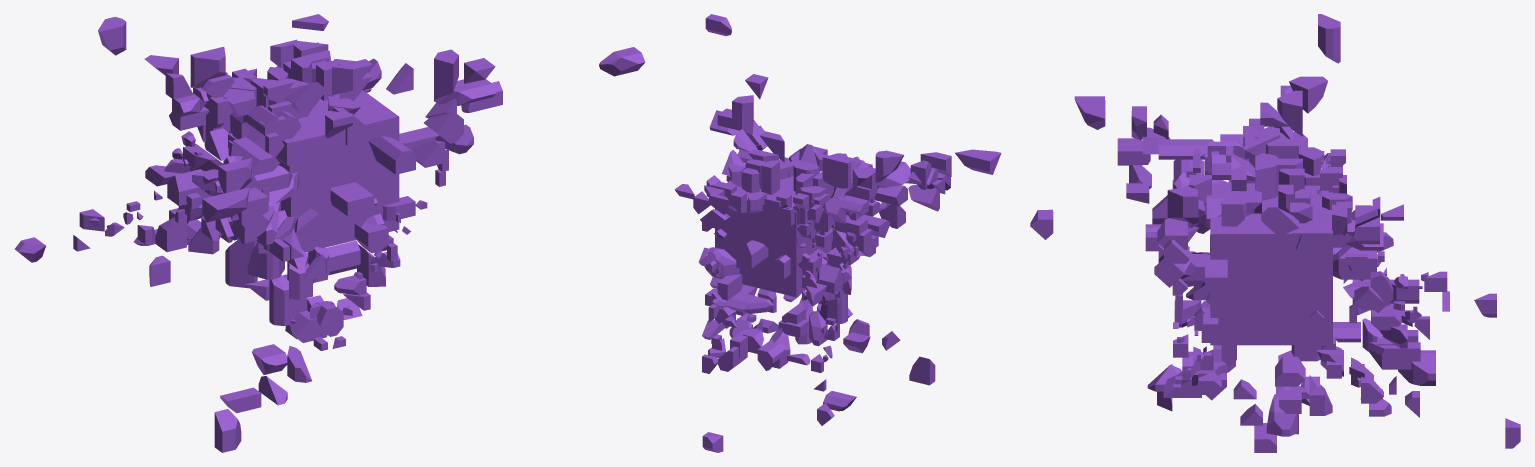
3 views of the same model, side by side, from view 1: azimuth 30°, elevation 25°; view 2: azimuth 150°, elevation 25°; view 3: azimuth 270°, elevation 25° (orthographic). The views are drawn at different scales.
Visible parts, largest first — view 1: Cube, Cube_cell_191, Cube_cell_043, Cube_cell_148, Cube_cell_027, Cube_cell_079, Cube_cell_182, Cube_cell_035, Cube_cell_071, Cube_cell_016, Cube_cell_030, Cube_cell_193 (+25 smaller); view 2: Cube, Cube_cell_079, Cube_cell_182, Cube_cell_188, Cube_cell_035, Cube_cell_175, Cube_cell_066, Cube_cell_195, Cube_cell_065, Cube_cell_016, Cube_cell_043, Cube_cell_136 (+32 smaller); view 3: Cube, Cube_cell_063, Cube_cell_035, Cube_cell_018, Cube_cell_175, Cube_cell_030, Cube_cell_195, Cube_cell_017, Cube_cell_077, Cube_cell_079, Cube_cell_131, Cube_cell_106 (+30 smaller).
Boxes of the visible parts, left/top/right/bottom form: Cube: left=275, top=90, right=399, bottom=247; Cube_cell_191: left=330, top=182, right=374, bottom=226; Cube_cell_043: left=269, top=275, right=307, bottom=325; Cube_cell_148: left=368, top=136, right=415, bottom=174; Cube_cell_027: left=225, top=238, right=257, bottom=288; Cube_cell_079: left=190, top=46, right=225, bottom=88; Cube_cell_182: left=202, top=187, right=249, bottom=222; Cube_cell_035: left=434, top=49, right=458, bottom=101; Cube_cell_071: left=294, top=208, right=332, bottom=252; Cube_cell_016: left=214, top=409, right=241, bottom=452; Cube_cell_030: left=231, top=137, right=279, bottom=175; Cube_cell_193: left=332, top=59, right=372, bottom=95; Cube: left=715, top=175, right=832, bottom=297; Cube_cell_079: left=822, top=153, right=850, bottom=188; Cube_cell_182: left=955, top=149, right=1001, bottom=174; Cube_cell_188: left=724, top=292, right=773, bottom=313; Cube_cell_035: left=732, top=95, right=753, bottom=134; Cube_cell_175: left=736, top=240, right=768, bottom=269; Cube_cell_066: left=705, top=247, right=739, bottom=278; Cube_cell_195: left=875, top=150, right=904, bottom=182; Cube_cell_065: left=761, top=160, right=779, bottom=195; Cube_cell_016: left=909, top=356, right=935, bottom=385; Cube_cell_043: left=820, top=293, right=847, bottom=323; Cube_cell_136: left=816, top=264, right=842, bottom=293; Cube: left=1210, top=182, right=1332, bottom=345; Cube_cell_063: left=1367, top=342, right=1420, bottom=369; Cube_cell_035: left=1167, top=186, right=1198, bottom=228; Cube_cell_018: left=1255, top=153, right=1277, bottom=200; Cube_cell_175: left=1333, top=245, right=1376, bottom=279; Cube_cell_030: left=1158, top=139, right=1213, bottom=159; Cube_cell_195: left=1318, top=14, right=1340, bottom=63; Cube_cell_017: left=1398, top=350, right=1435, bottom=385; Cube_cell_077: left=1289, top=76, right=1327, bottom=113; Cube_cell_079: left=1277, top=90, right=1302, bottom=136; Cube_cell_131: left=1266, top=393, right=1297, bottom=436; Cube_cell_106: left=1275, top=356, right=1305, bottom=386.
Size of the model in its own units: 7.5 by 7.99 by 6.78.
